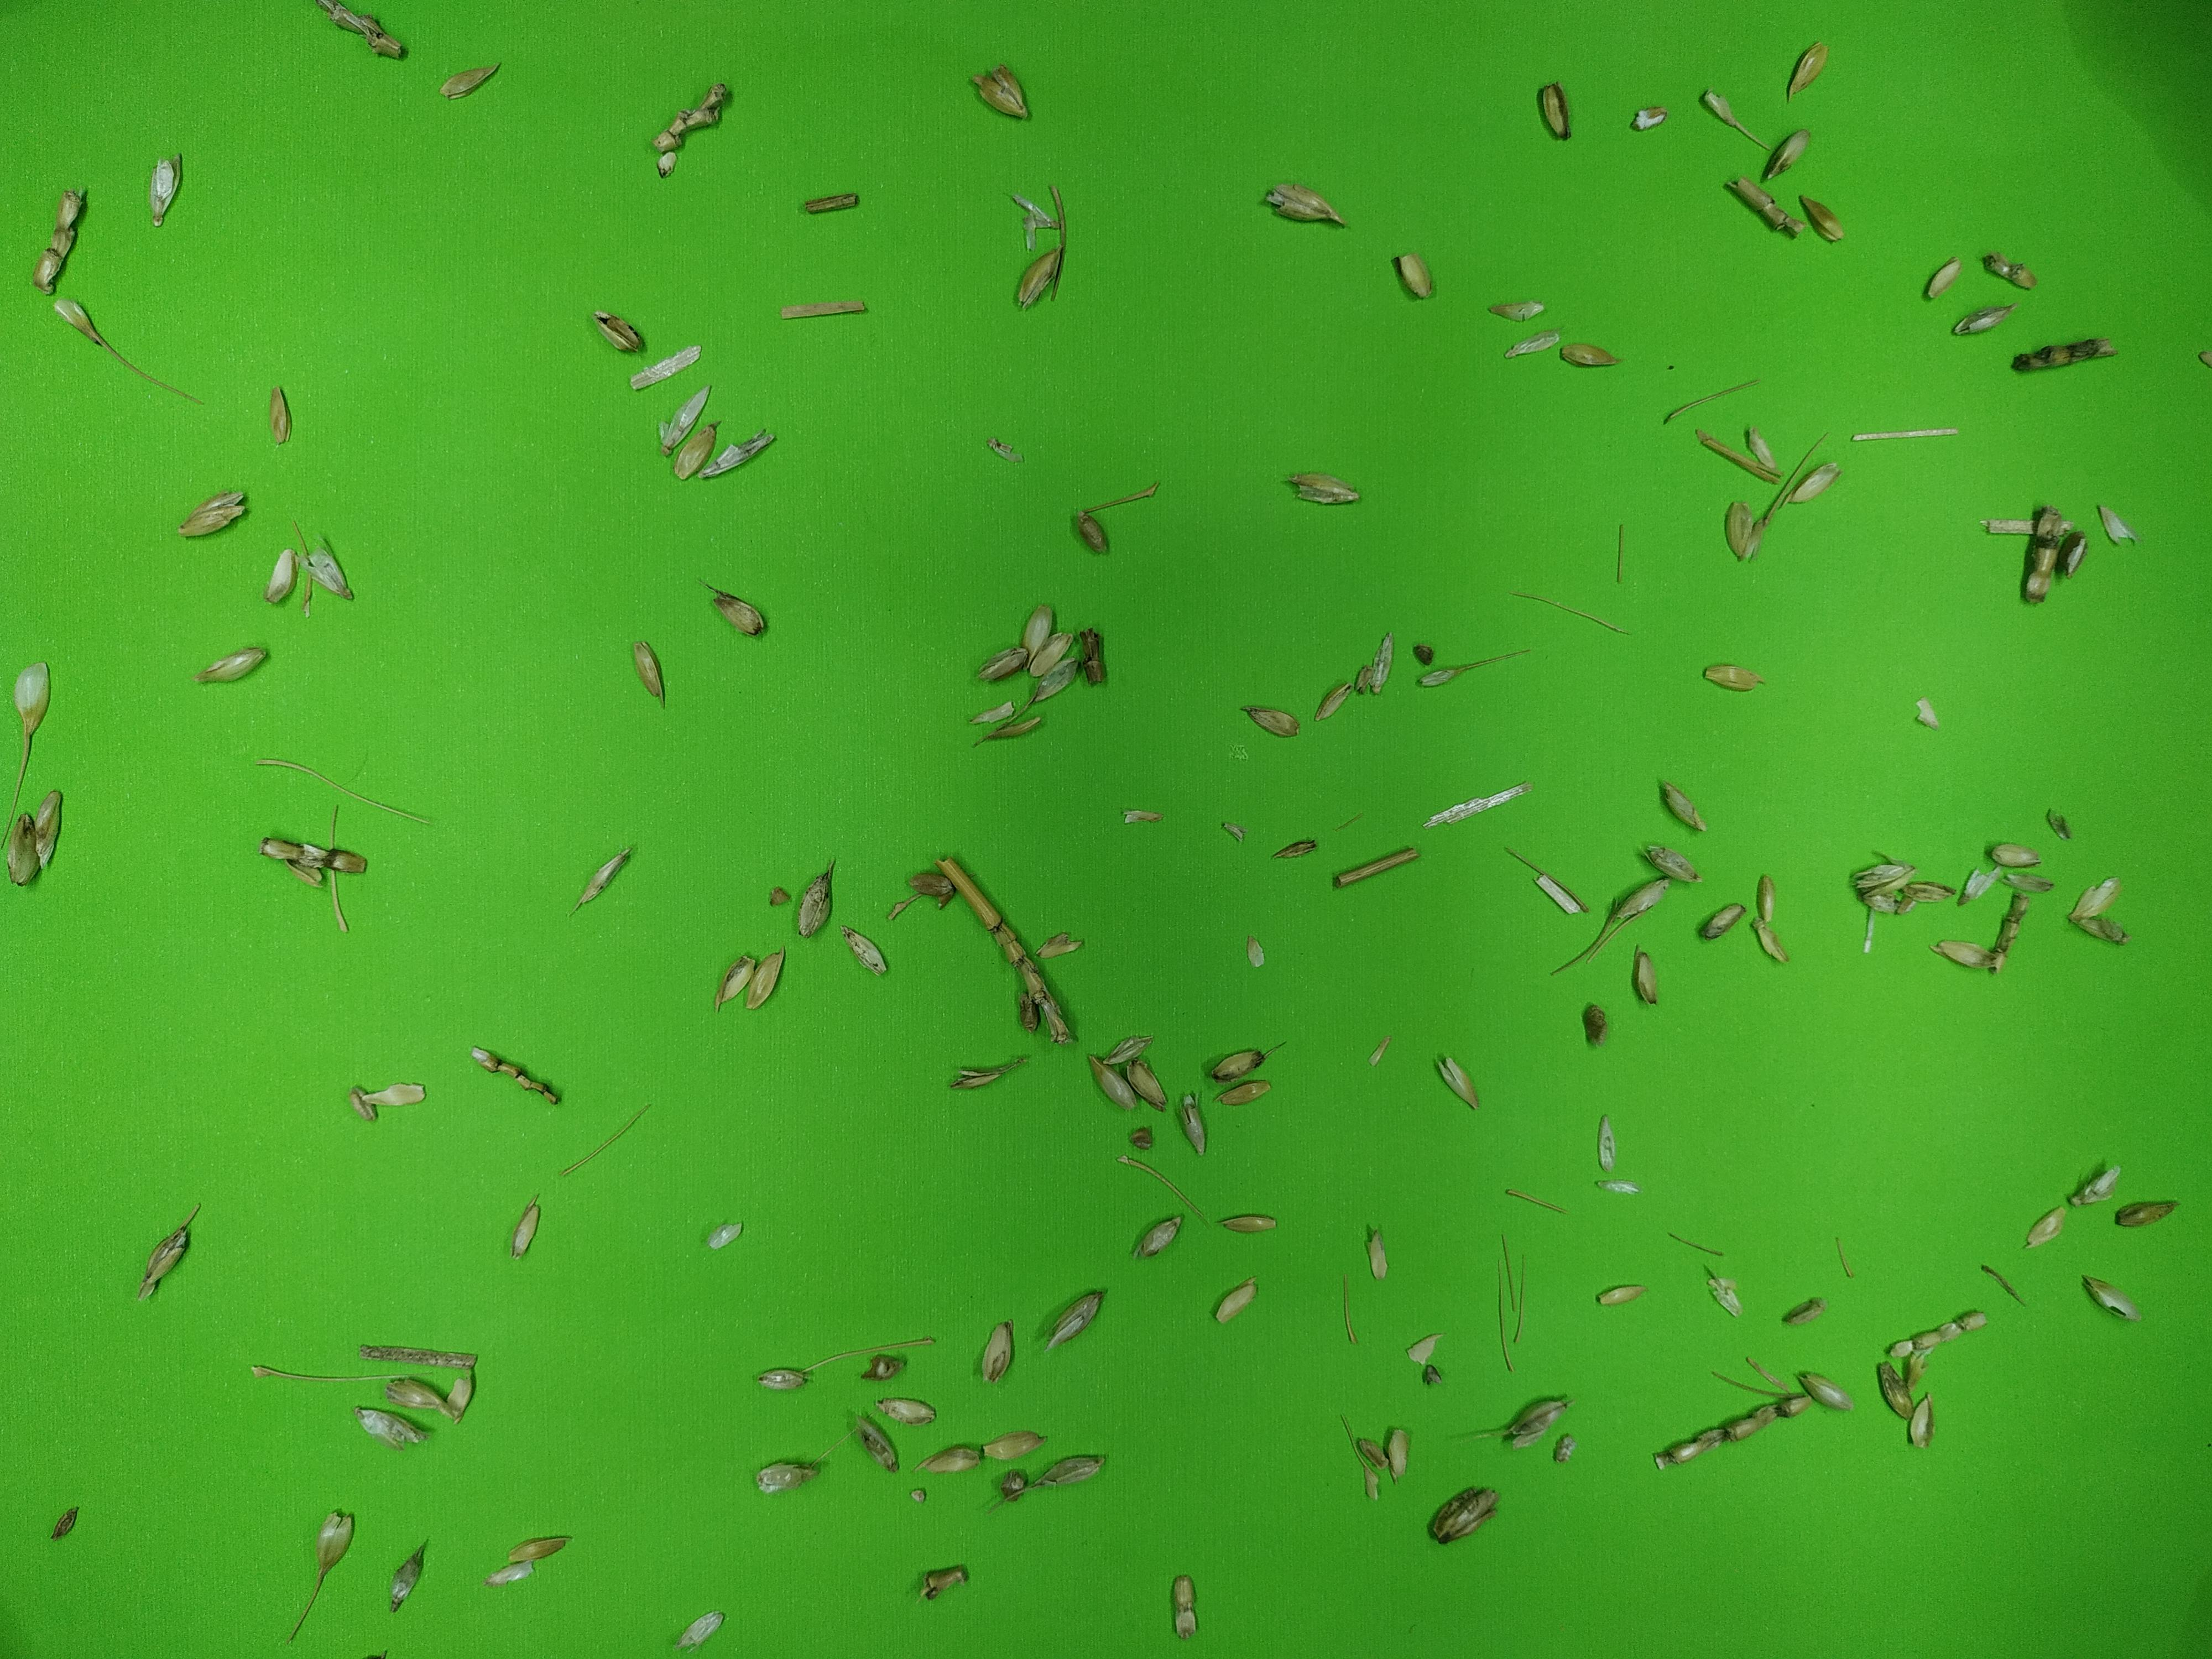impureza: (937, 856, 1075, 1046), (1649, 1392, 1810, 1471), (253, 762, 439, 828), (1547, 878, 1670, 974), (282, 1506, 350, 1647), (651, 77, 740, 178), (1113, 1152, 1212, 1229), (105, 336, 207, 408), (561, 1105, 653, 1176), (463, 1042, 564, 1107), (136, 1204, 202, 1302), (33, 178, 87, 296), (1451, 1396, 1576, 1446), (1500, 845, 1588, 915), (2017, 502, 2069, 612), (322, 0, 413, 63), (1512, 589, 1632, 636), (1892, 1303, 1993, 1358), (1420, 777, 1534, 824), (1420, 645, 1534, 690), (1726, 174, 1806, 239), (1496, 1234, 1533, 1375), (690, 425, 782, 481), (798, 1338, 937, 1375), (1986, 885, 2040, 979), (1043, 1283, 1109, 1358), (2006, 333, 2114, 378), (1696, 87, 1770, 153), (178, 486, 263, 542), (571, 843, 637, 915), (260, 831, 368, 875), (972, 687, 1047, 749), (1263, 176, 1346, 232), (1693, 425, 1782, 477), (655, 380, 714, 458), (1663, 378, 1768, 420), (845, 1408, 904, 1481), (697, 579, 768, 636), (1432, 1486, 1496, 1549), (352, 1338, 474, 1371), (629, 342, 705, 394), (253, 1363, 427, 1385), (1083, 1047, 1141, 1115), (354, 1401, 430, 1452), (1022, 653, 1085, 714), (1047, 181, 1078, 303), (145, 152, 192, 227), (381, 1378, 462, 1422), (1341, 1413, 1381, 1500), (1923, 934, 2003, 978), (437, 59, 507, 108), (792, 857, 834, 938), (1341, 845, 1418, 889), (303, 535, 357, 596), (1014, 247, 1066, 310), (1433, 1049, 1482, 1115), (390, 1535, 430, 1615), (970, 63, 1026, 120), (1285, 467, 1362, 509), (1797, 188, 1850, 249), (1698, 1260, 1750, 1321), (1635, 840, 1705, 885), (1029, 1453, 1108, 1493), (631, 640, 672, 714), (1355, 624, 1397, 699), (192, 643, 263, 687), (745, 943, 789, 1014), (1163, 1568, 1204, 1645), (674, 418, 723, 481), (949, 1058, 1031, 1094), (1855, 857, 1926, 899), (2081, 1277, 2142, 1326), (5, 814, 45, 887), (1759, 129, 1813, 183), (1007, 192, 1057, 249), (1979, 512, 2081, 540), (1123, 1056, 1172, 1114), (979, 1314, 1015, 1391), (1951, 301, 2024, 340), (49, 300, 108, 347), (711, 953, 758, 1012), (1785, 40, 1827, 106), (671, 1607, 730, 1652), (17, 664, 54, 737), (749, 1462, 826, 1497), (1975, 1263, 2031, 1310), (1205, 1281, 1263, 1326), (1536, 77, 1573, 146), (1656, 779, 1705, 831), (592, 308, 646, 356), (33, 789, 64, 870), (261, 382, 298, 450), (914, 1445, 982, 1481), (1879, 1361, 1919, 1422), (1627, 945, 1662, 1014), (505, 1199, 542, 1265), (5, 737, 30, 835), (1136, 1213, 1183, 1263), (261, 545, 301, 605), (1980, 249, 2040, 289), (1747, 918, 1792, 971), (2073, 1162, 2127, 1206), (361, 1077, 435, 1108), (977, 1427, 1043, 1462), (1723, 498, 1759, 561), (1792, 460, 1839, 509), (780, 298, 874, 322), (2118, 1197, 2182, 1232), (1082, 483, 1162, 511), (1073, 627, 1109, 688), (1378, 1424, 1416, 1481), (1797, 1370, 1851, 1410), (1550, 342, 1632, 368), (1505, 326, 1569, 359), (1862, 894, 1895, 958), (920, 1561, 972, 1601), (1780, 1295, 1834, 1333), (2024, 1208, 2071, 1251), (843, 927, 887, 974), (1207, 1047, 1263, 1084), (1392, 249, 1433, 298), (327, 864, 355, 938), (1019, 603, 1059, 653), (798, 183, 862, 214), (1360, 1222, 1393, 1283), (871, 1394, 932, 1427), (1703, 662, 1764, 694), (1176, 1094, 1209, 1152), (1921, 258, 1966, 300), (906, 870, 960, 904), (1848, 427, 1956, 444), (1071, 509, 1109, 558), (446, 1363, 479, 1419), (1907, 1396, 1940, 1452), (1031, 631, 1071, 676), (1214, 1211, 1278, 1239), (1588, 1117, 1618, 1176), (1581, 995, 1609, 1056), (1749, 1358, 1792, 1396), (1745, 873, 1782, 918), (751, 1368, 819, 1392), (1402, 1330, 1442, 1370), (512, 1534, 570, 1561), (1959, 868, 2001, 906), (860, 1349, 904, 1385), (981, 647, 1024, 683), (2078, 880, 2123, 915), (347, 1080, 381, 1126), (968, 695, 1014, 730), (1507, 1188, 1566, 1215), (1315, 681, 1353, 721), (993, 1466, 1029, 1507), (1033, 929, 1082, 960), (1745, 427, 1777, 476), (702, 1218, 745, 1253), (1252, 706, 1299, 737), (1353, 1432, 1392, 1471), (1986, 842, 2038, 870), (1698, 904, 1740, 939), (1484, 296, 1543, 321), (1669, 1230, 1726, 1255), (2040, 803, 2078, 840), (1109, 1032, 1153, 1063), (2076, 917, 2128, 943), (1595, 1281, 1644, 1309), (2094, 507, 2130, 544), (1338, 1276, 1355, 1351), (484, 1560, 533, 1586), (1900, 882, 1951, 906), (1217, 1079, 1264, 1105), (1905, 694, 1939, 730), (984, 434, 1022, 465), (1629, 103, 1669, 132), (1273, 836, 1318, 861), (1109, 807, 1167, 826), (1367, 1032, 1395, 1070), (1332, 807, 1371, 835), (1238, 936, 1268, 971), (2059, 535, 2087, 570), (1836, 1232, 1857, 1277), (1590, 1180, 1639, 1199), (1123, 1124, 1158, 1150), (1615, 518, 1629, 582), (1416, 1363, 1449, 1389), (1411, 638, 1437, 669), (1555, 1432, 1578, 1466), (1223, 821, 1249, 840), (909, 1486, 928, 1506)
